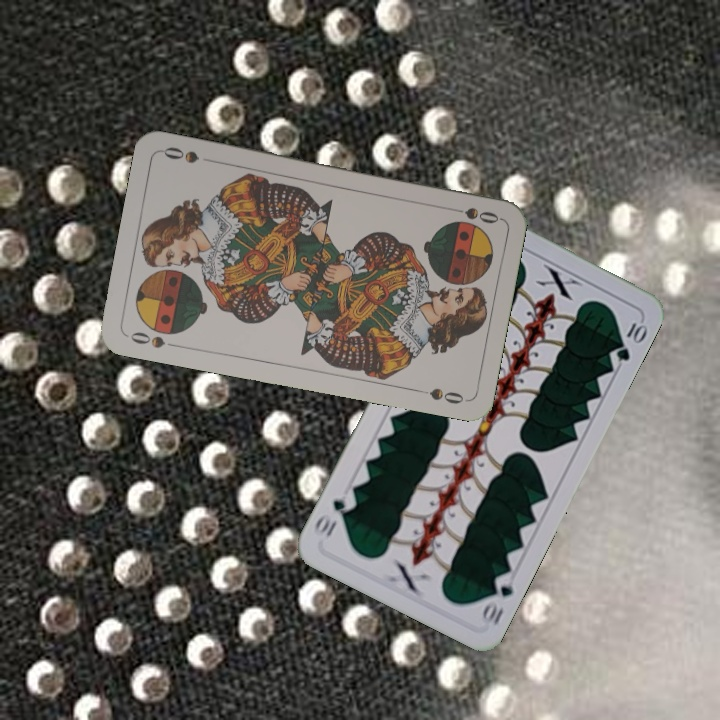G10: (477, 569, 516, 628)
SO: (443, 203, 502, 227), (126, 328, 182, 351)
